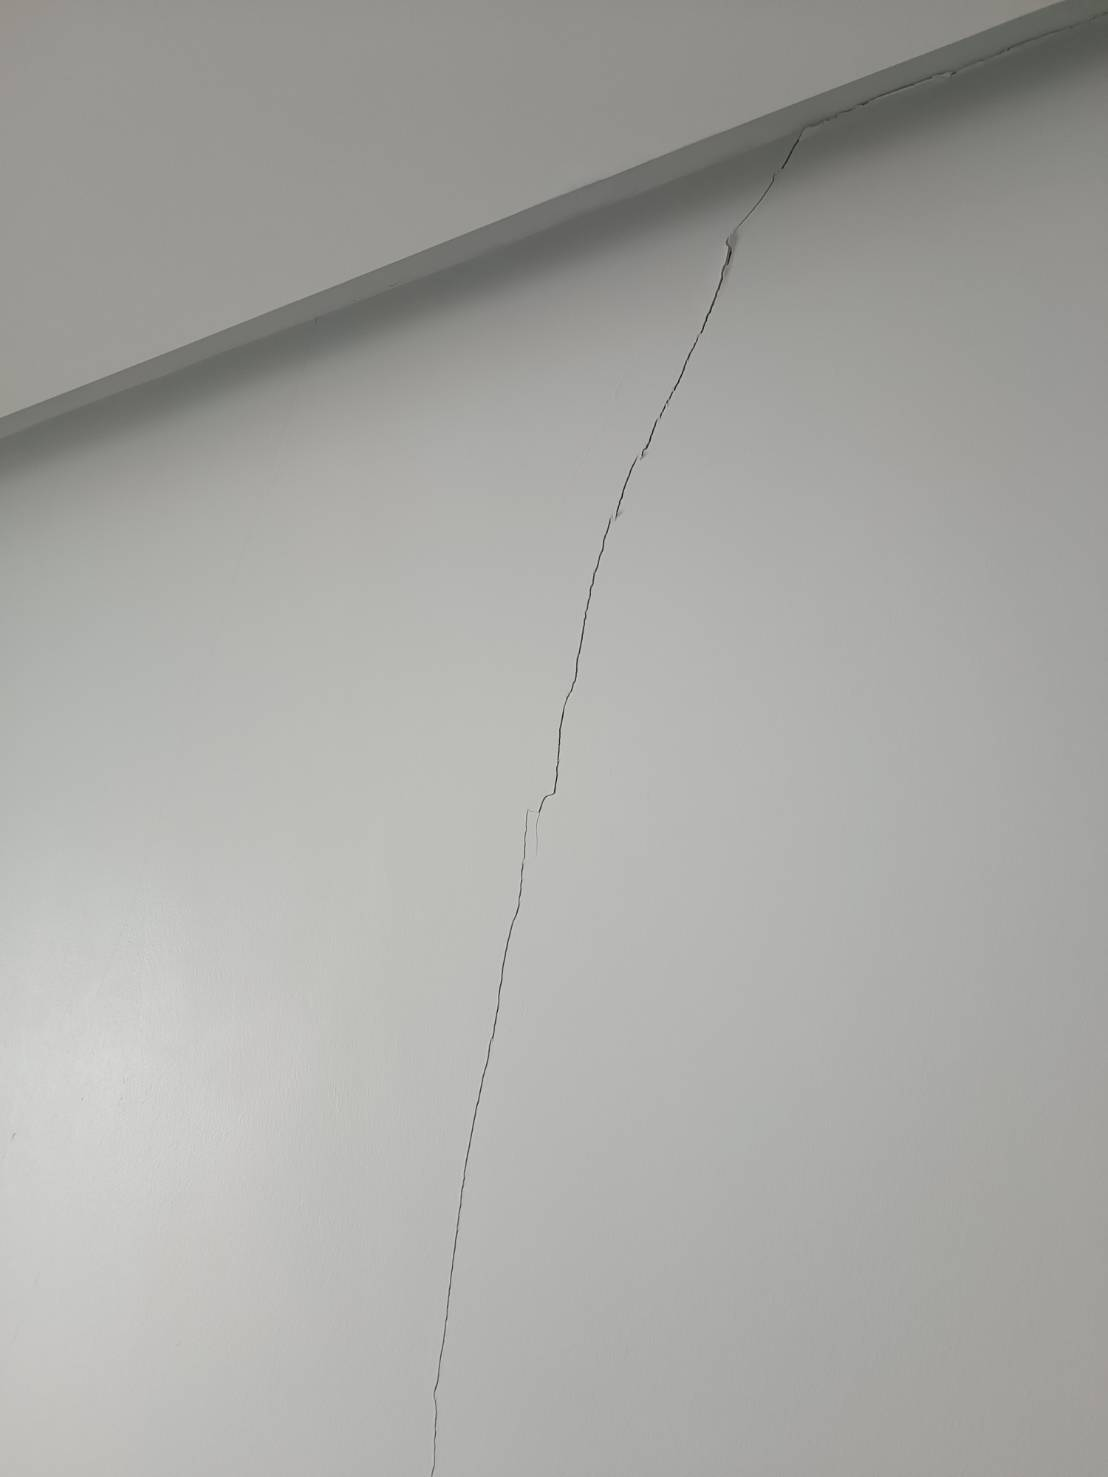Low: (422, 102, 859, 1475)
